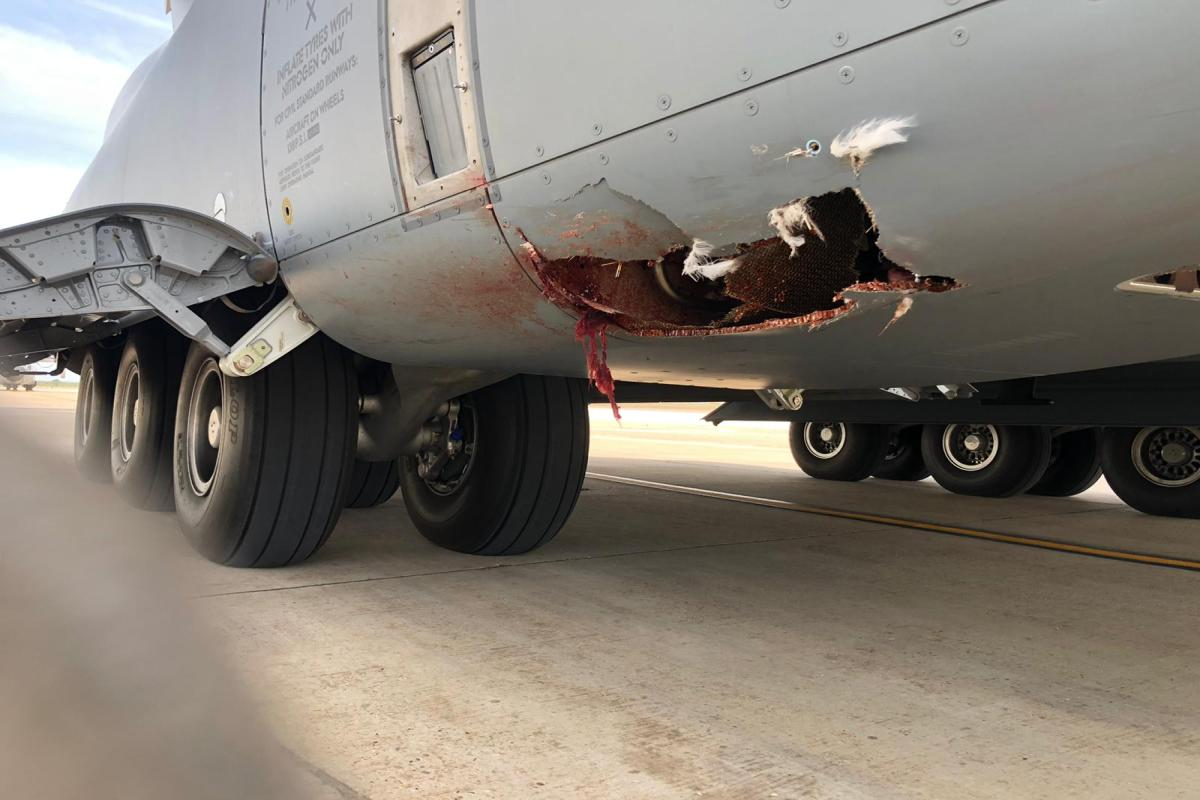Fuselage_damage: (416, 108, 976, 431), (514, 173, 969, 344)
